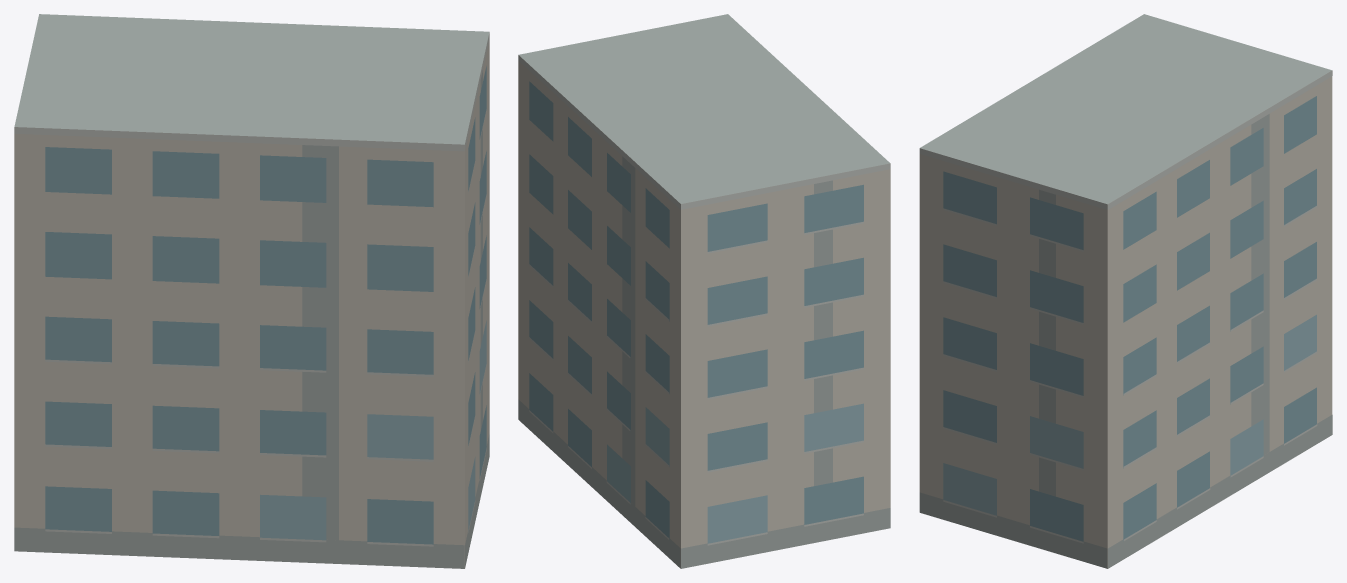
File: residential-4e53376e-1e60-4b94-bd63-a52e979b46d5.glb
The picture shows the model from 3 angles, left to right: view 1: azimuth 30°, elevation 25°; view 2: azimuth 150°, elevation 25°; view 3: azimuth 270°, elevation 25°; orthographic projection. The views are drawn at different scales.
Visible parts, largest first — view 1: residential-4e53376e-1e60-4b94-bd63-a52e979b46d5.tmp; view 2: residential-4e53376e-1e60-4b94-bd63-a52e979b46d5.tmp; view 3: residential-4e53376e-1e60-4b94-bd63-a52e979b46d5.tmp.
Part boxes in pixels (x1=…): residential-4e53376e-1e60-4b94-bd63-a52e979b46d5.tmp: x1=14, y1=14, x2=489, y2=568; residential-4e53376e-1e60-4b94-bd63-a52e979b46d5.tmp: x1=518, y1=14, x2=890, y2=568; residential-4e53376e-1e60-4b94-bd63-a52e979b46d5.tmp: x1=919, y1=14, x2=1332, y2=568.
Bounding box in the file's own units: 17.09 × 15.25 × 15.66.
